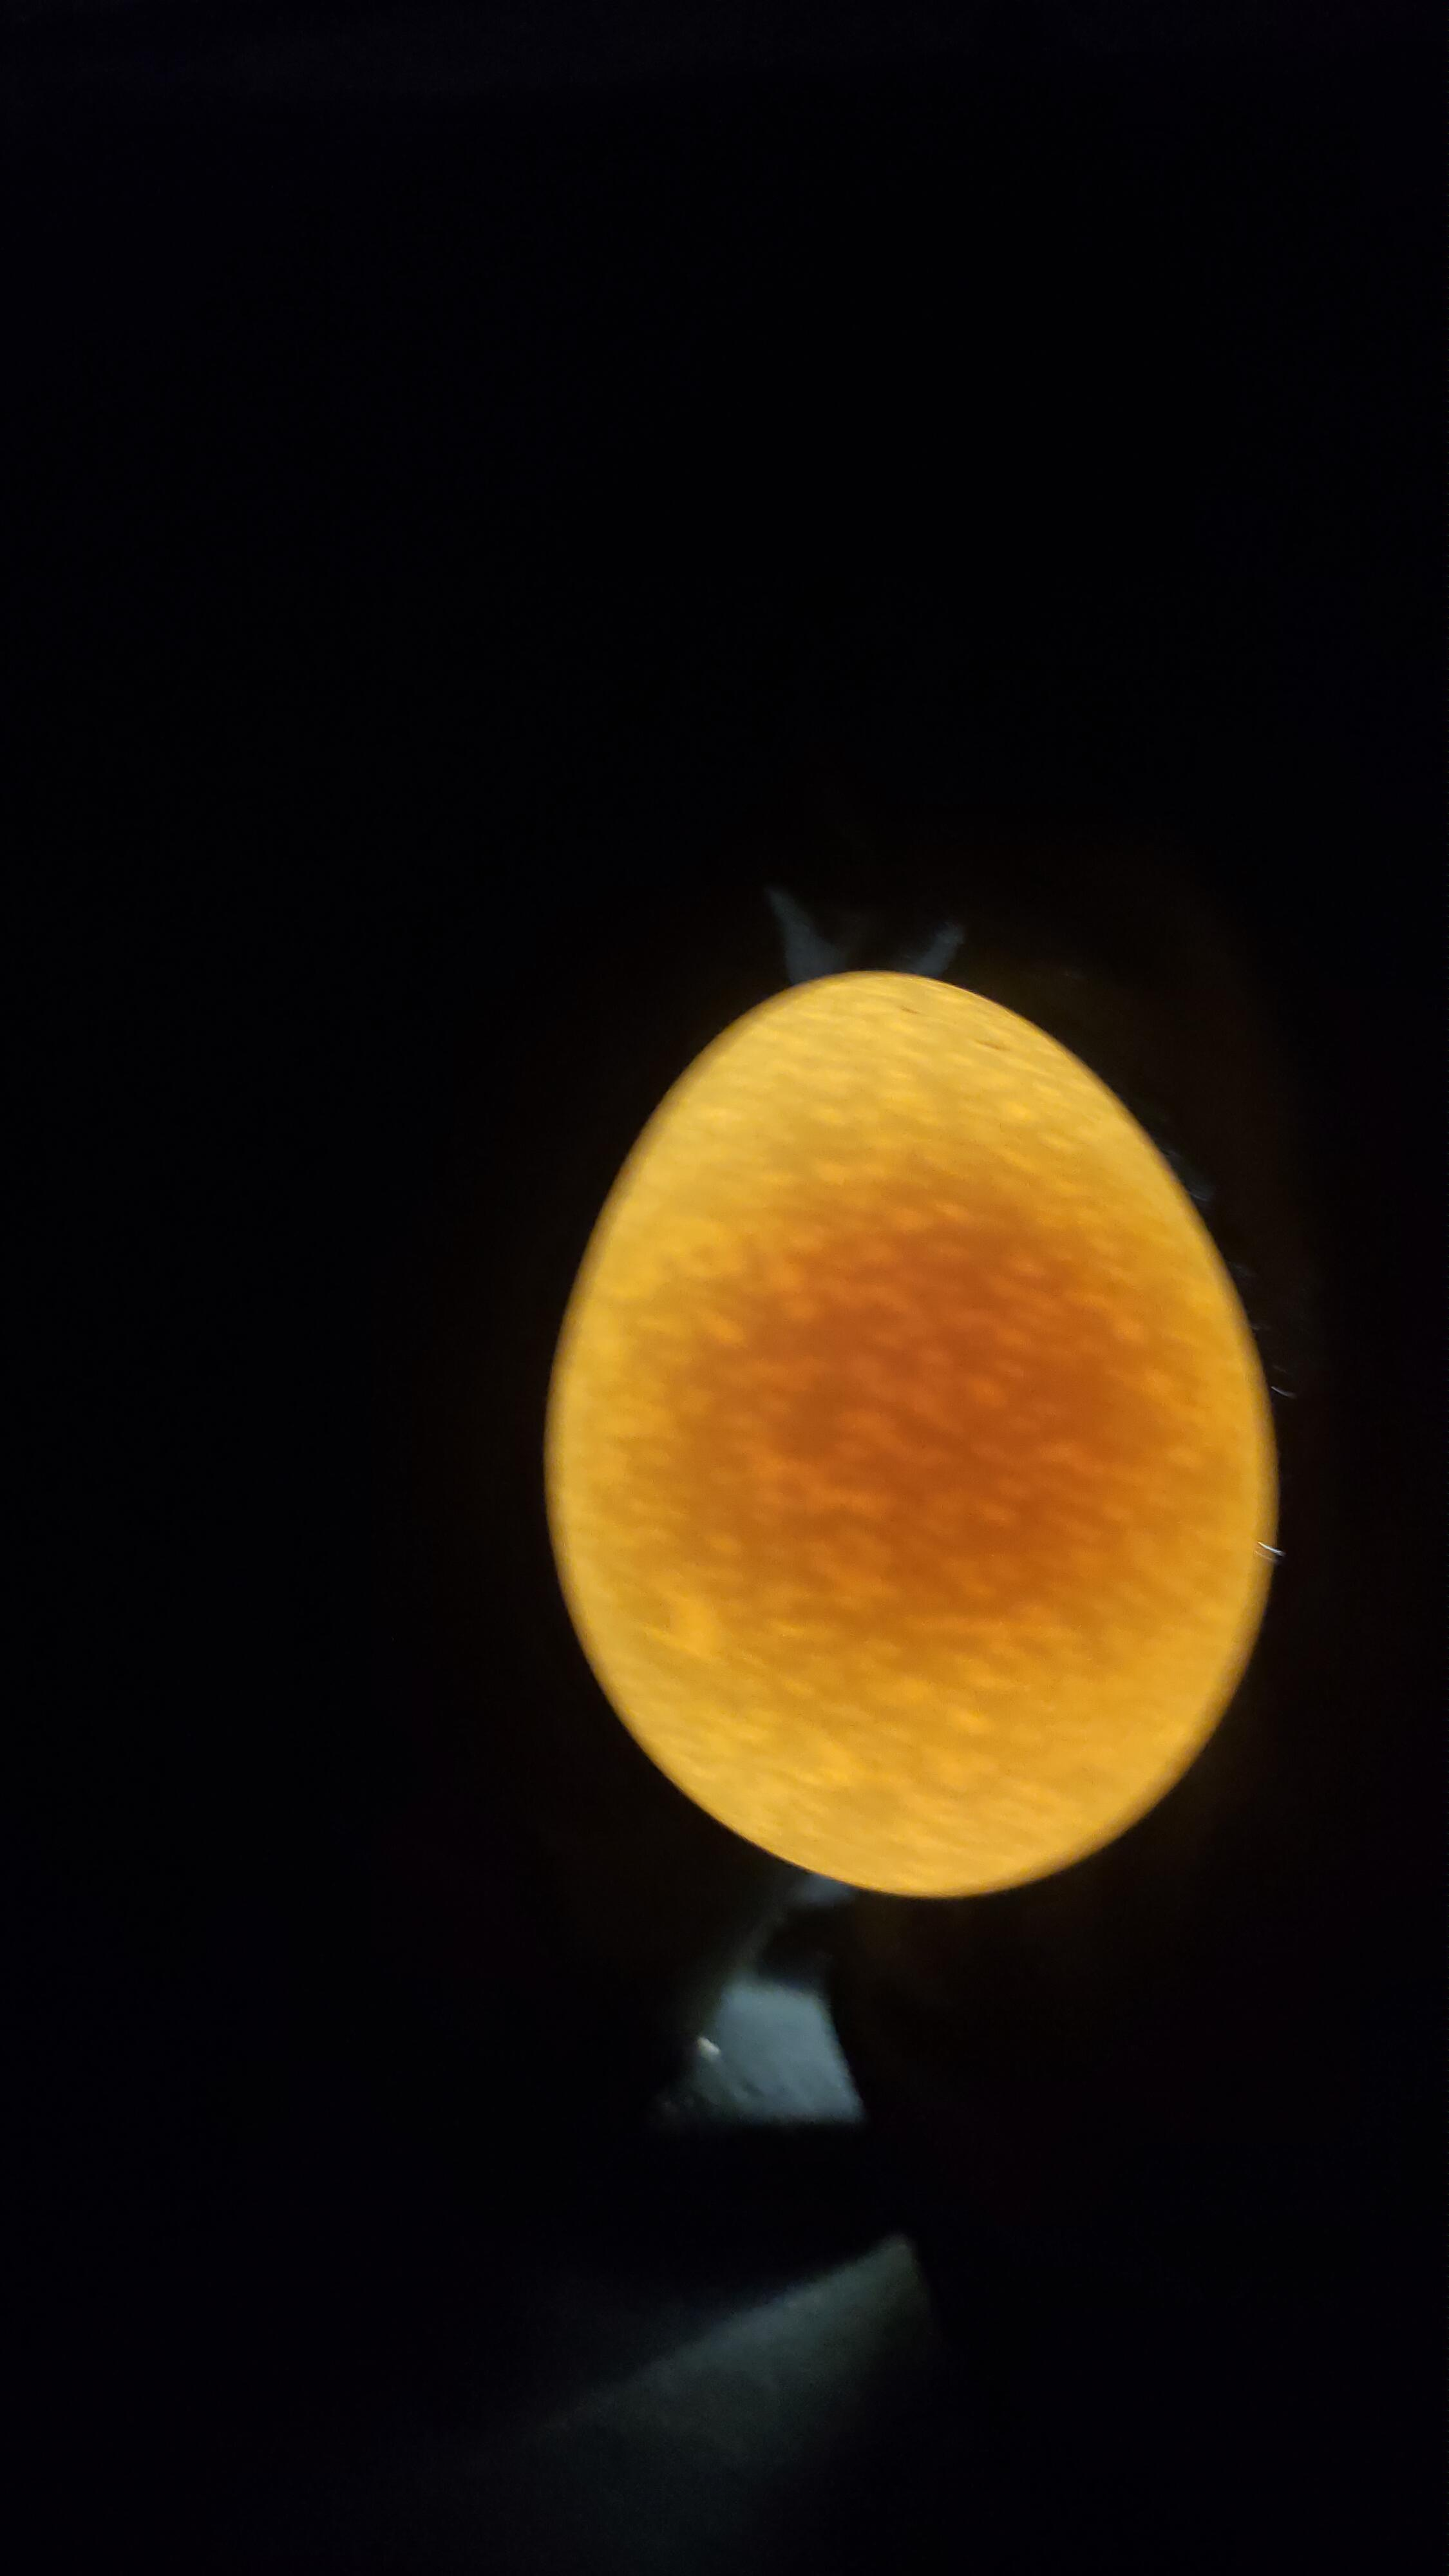A - Good: (510, 915, 1307, 1905)
